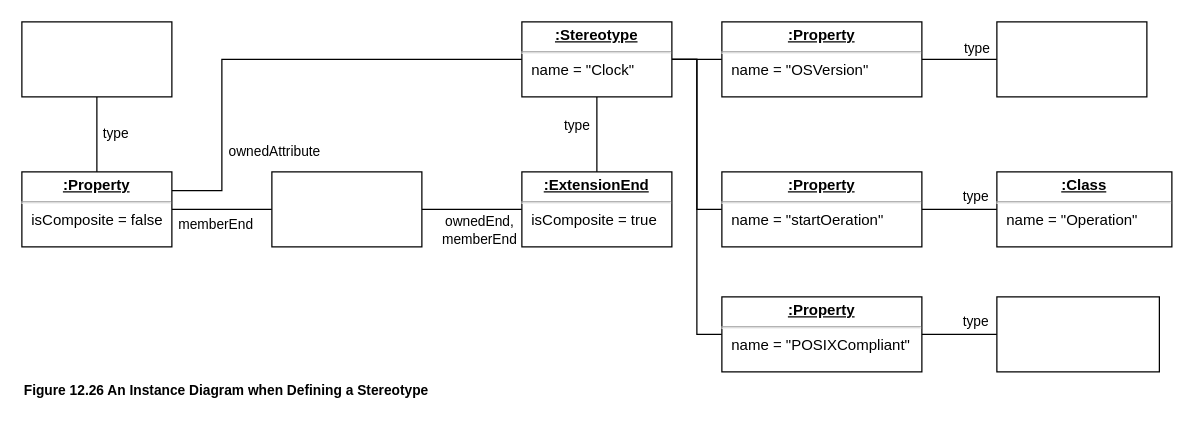
This 1194x431 diagram has some shape labels left out. The shapes that lost their labels are listed below. From the top down, each one's centre as x and y in pixels, then its label:
pixel 96 59: :Class name = "Class"
pixel 1071 59: :PrimitiveType name = "String"
pixel 346 209: :Extension isRequired = false
pixel 1077 334: :PrimitiveType name = "Boolean"
